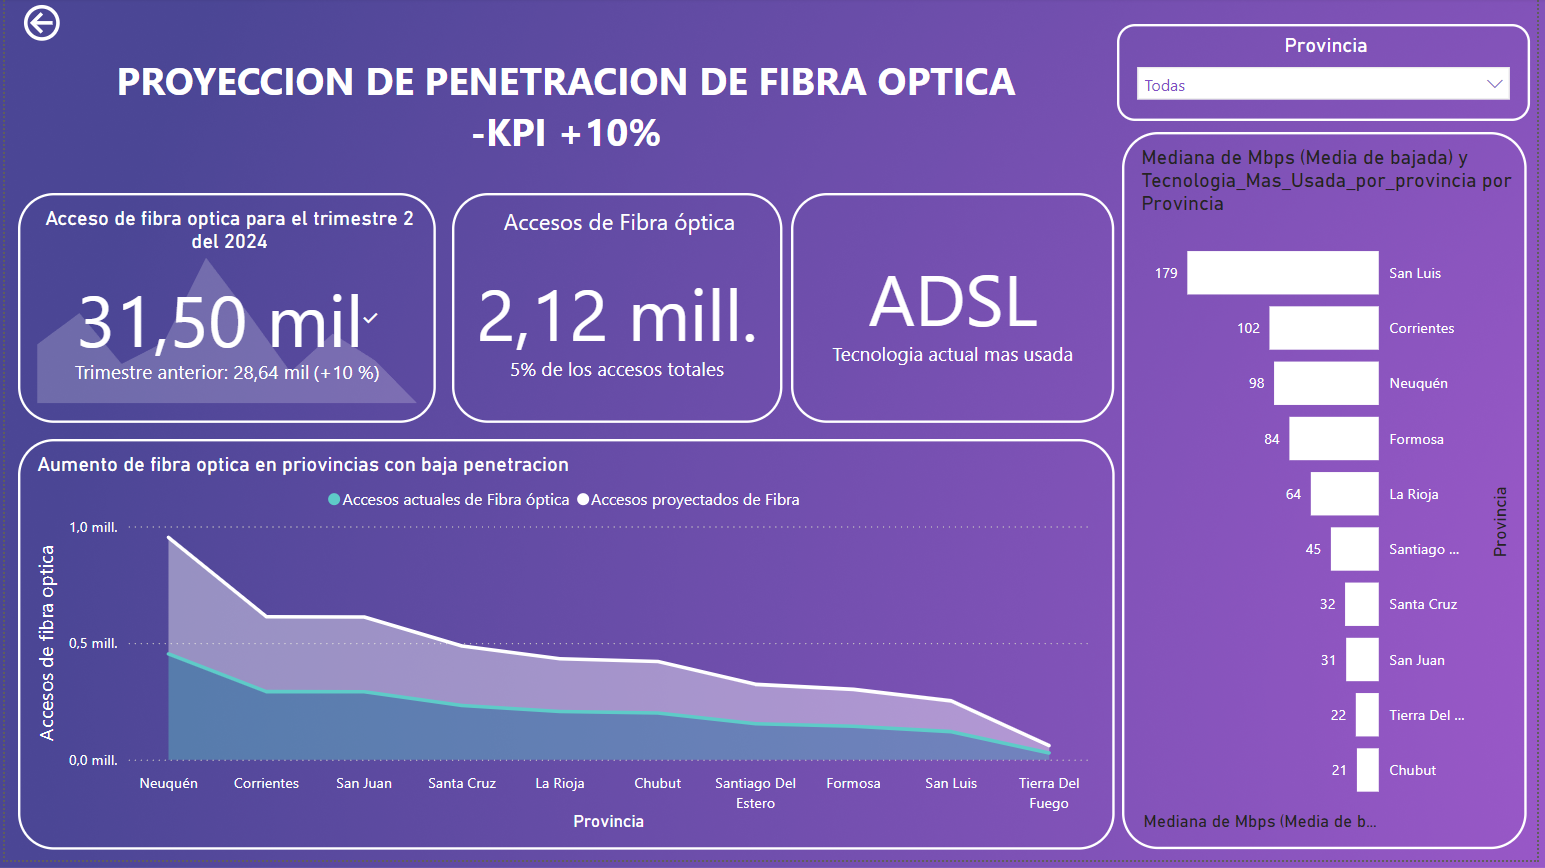

The dashboard page shown, as its layout file describes it:
{"tool":"powerbi","page":{"name":"Penetracion de fibra optica","canvas":[1280,720],"ordinal":4},"visuals":[{"type":"textbox","box":[21.8,12.7,1156.4,56.4],"z":0},{"type":"stackedAreaChart","title":"Aumento de fibra optica en priovincias con baja penetracion","fields":{"Category":["accesos_totales_por_prov_por_tec.Provincia"],"Y":["Sum(accesos_totales_por_prov_por_tec.Fibra óptica)","Sum(accesos_totales_por_prov_por_tec.Nuevo_Fibra)"]},"box":[10.9,368.2,905.5,342.7],"z":1000},{"type":"actionButton","box":[0,0,100,40],"z":2000},{"type":"barChart","fields":{"Category":["accesos_totales_por_prov_por_tec.Provincia"],"Y":["Median(acceso_por_prov_poblacion_hogares.Mbps (Media de bajada))"]},"box":[925.5,158.2,346.4,552.7],"z":3000},{"type":"kpi","title":"Acceso de fibra optica para el trimestre 2 del 2024","fields":{"Indicator":["Median(accesos_totales_por_prov_por_tec.Nuevo_Fibra)"],"Goal":["Median(accesos_totales_por_prov_por_tec.Fibra óptica)"],"TrendLine":["accesos_totales_por_prov_por_tec.Provincia"]},"box":[10.9,158.2,349.1,200.9],"z":4000}]}

Visuals, with their boxes in screenshot pixels (x1, y1, x2, y2), scaled from the page's 1280x720 canvas onto the 1545x868 screenshot:
textbox: {"left": 26, "top": 15, "right": 1422, "bottom": 83}
"Aumento de fibra optica en priovincias con baja penetracion" stackedAreaChart: {"left": 13, "top": 444, "right": 1106, "bottom": 857}
actionButton: {"left": 0, "top": 0, "right": 121, "bottom": 48}
barChart - accesos_totales_por_prov_por_tec.Provincia x Median(acceso_por_prov_poblacion_hogares.Mbps (Media de bajada)): {"left": 1117, "top": 191, "right": 1535, "bottom": 857}
"Acceso de fibra optica para el trimestre 2 del 2024" kpi: {"left": 13, "top": 191, "right": 435, "bottom": 433}
